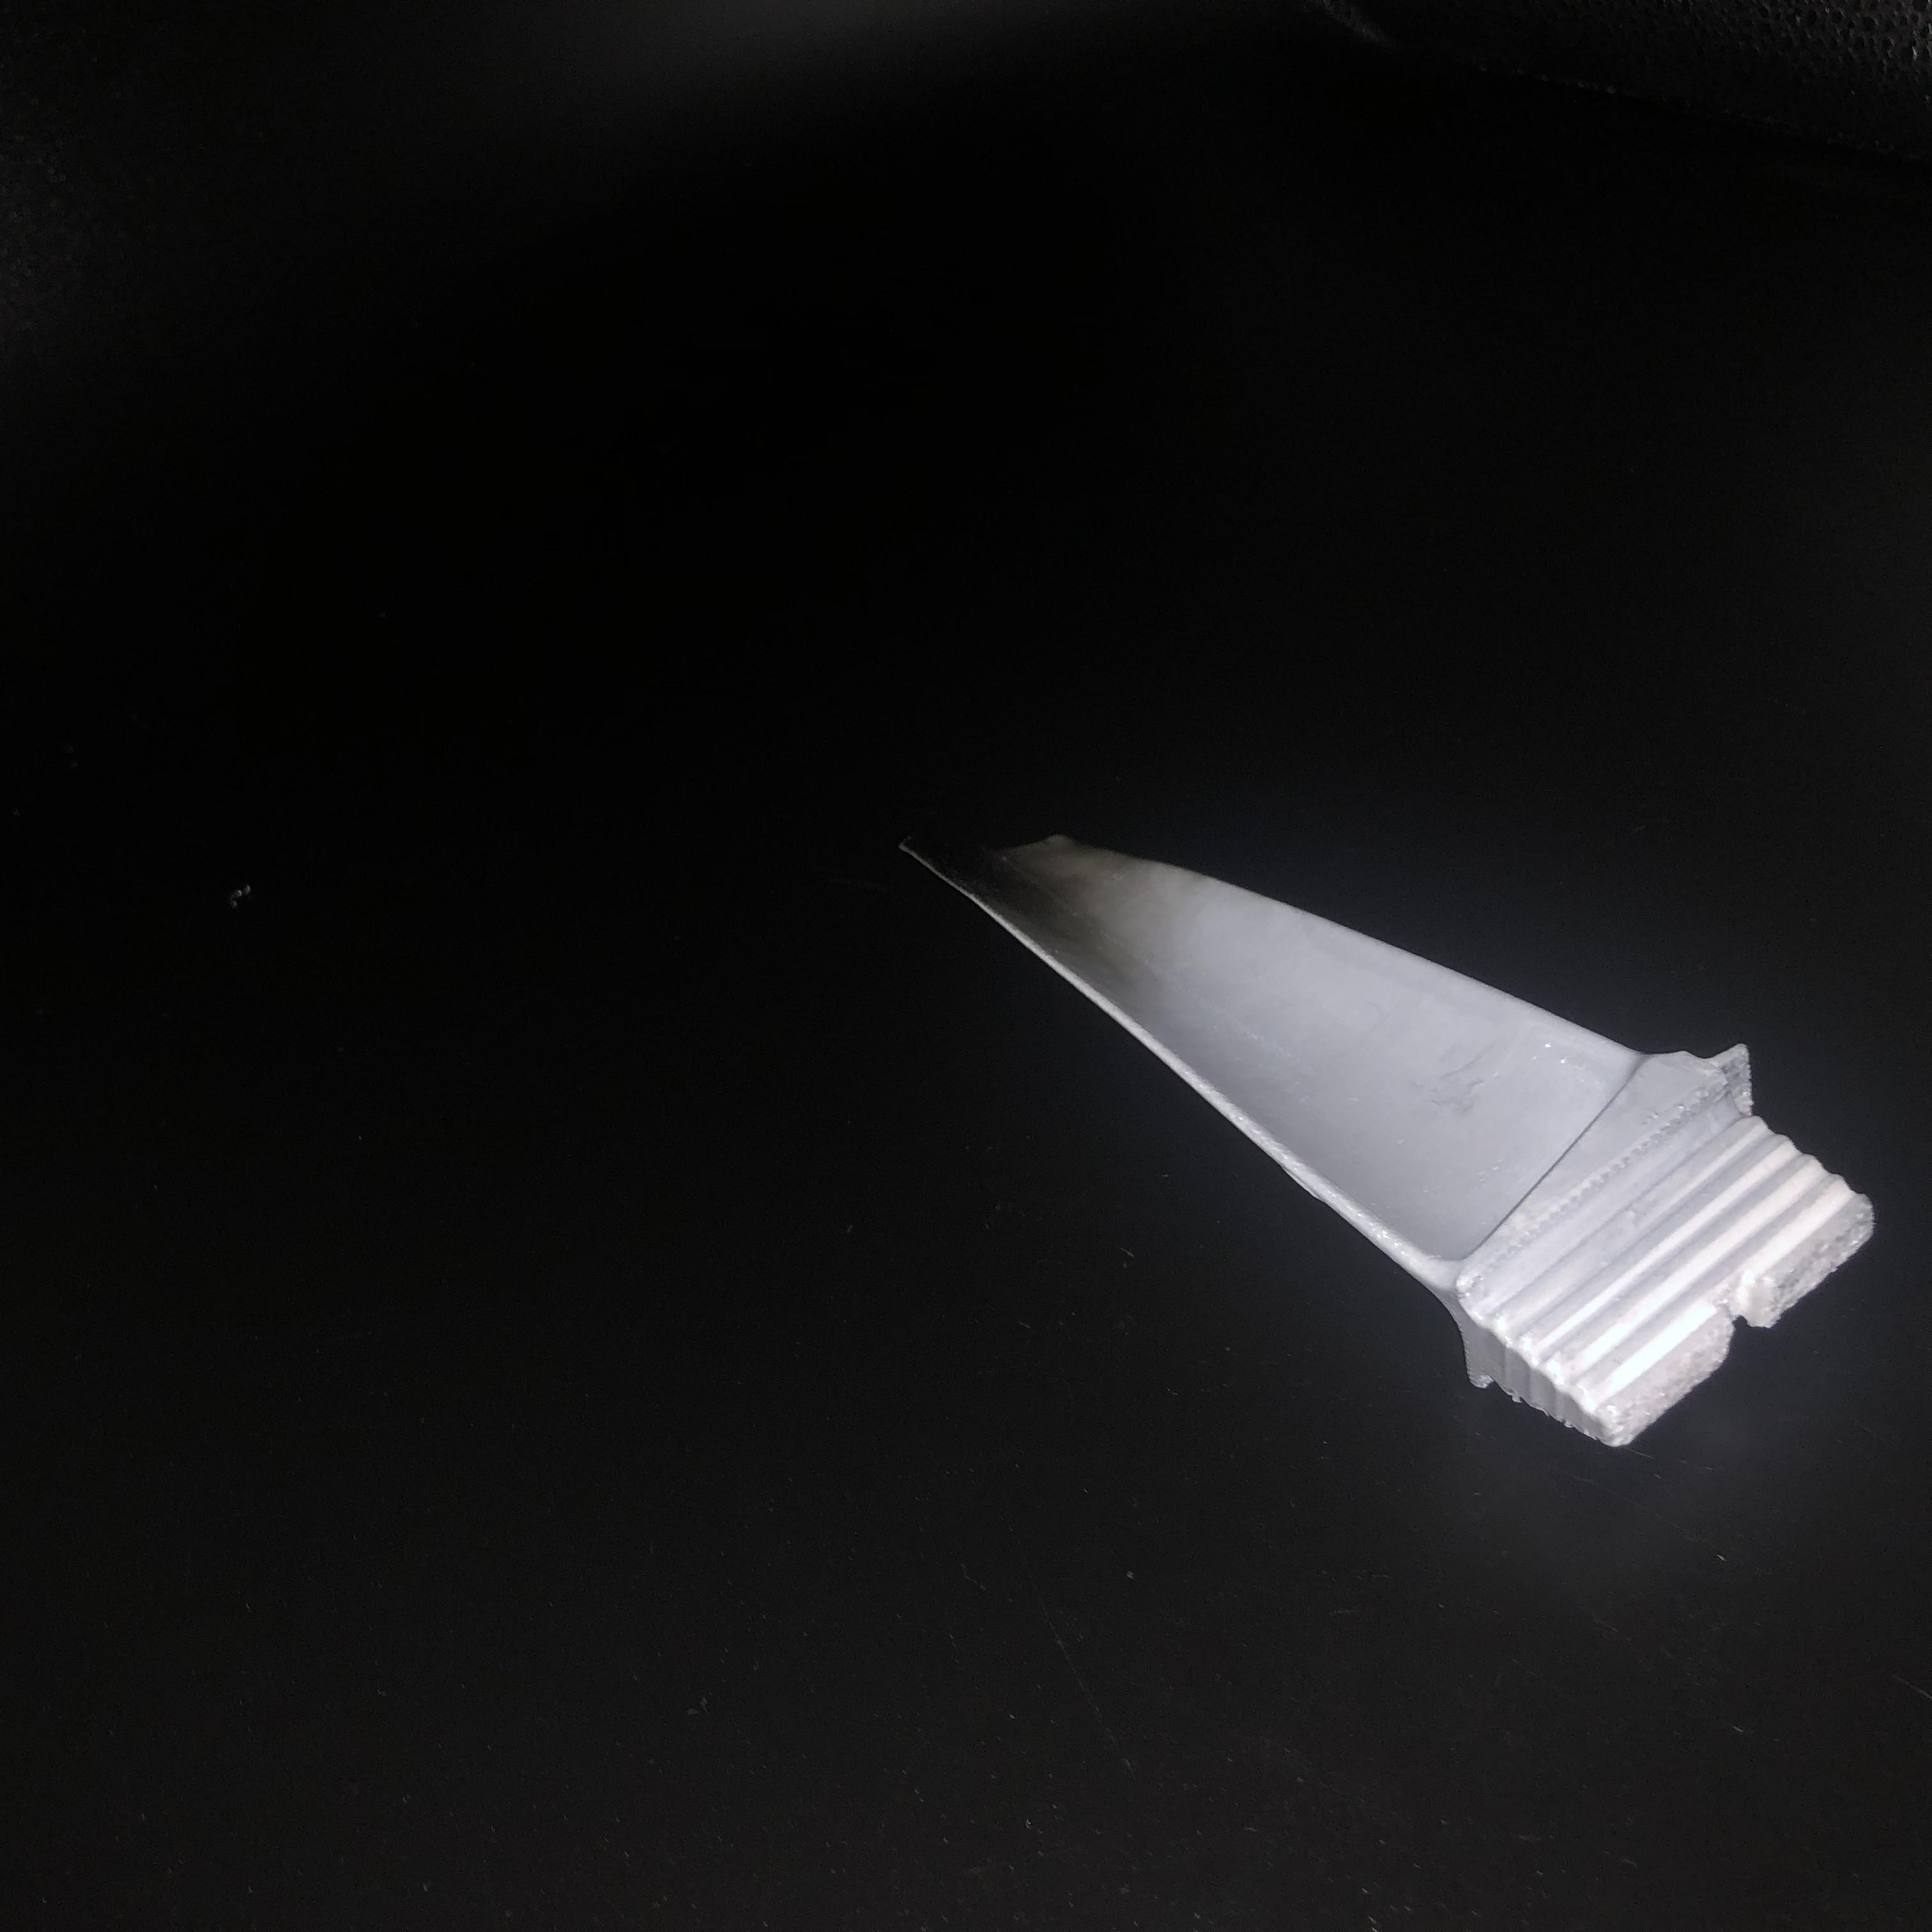ablation: (902, 830, 1182, 987)
